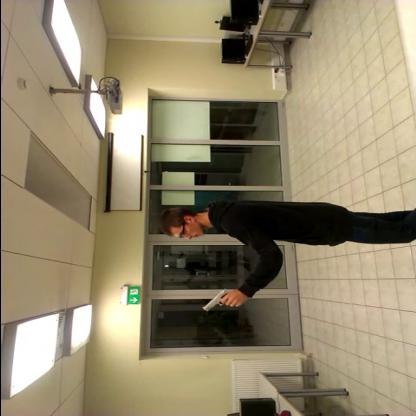Pistol: (198, 287, 257, 317)
